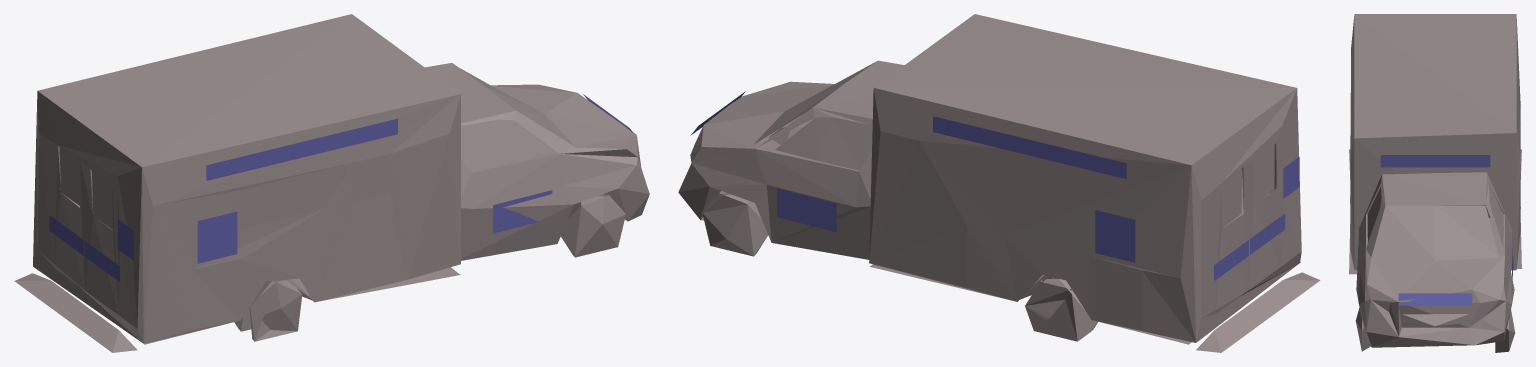
Rendered from civ-ambulance.lod2.glb.
3 views of the same model, side by side, from view 1: azimuth 30°, elevation 25°; view 2: azimuth 150°, elevation 25°; view 3: azimuth 270°, elevation 25° (orthographic). The views are drawn at different scales.
Visible parts, largest first — view 1: ambulance_ambulance_0; view 2: ambulance_ambulance_0; view 3: ambulance_ambulance_0.
Boxes of the visible parts, x1=… form: ambulance_ambulance_0: x1=14, y1=14, x2=649, y2=352; ambulance_ambulance_0: x1=678, y1=14, x2=1320, y2=352; ambulance_ambulance_0: x1=1349, y1=14, x2=1521, y2=352.
Bounding box in the file's own units: 6.84 × 2.45 × 2.37.
